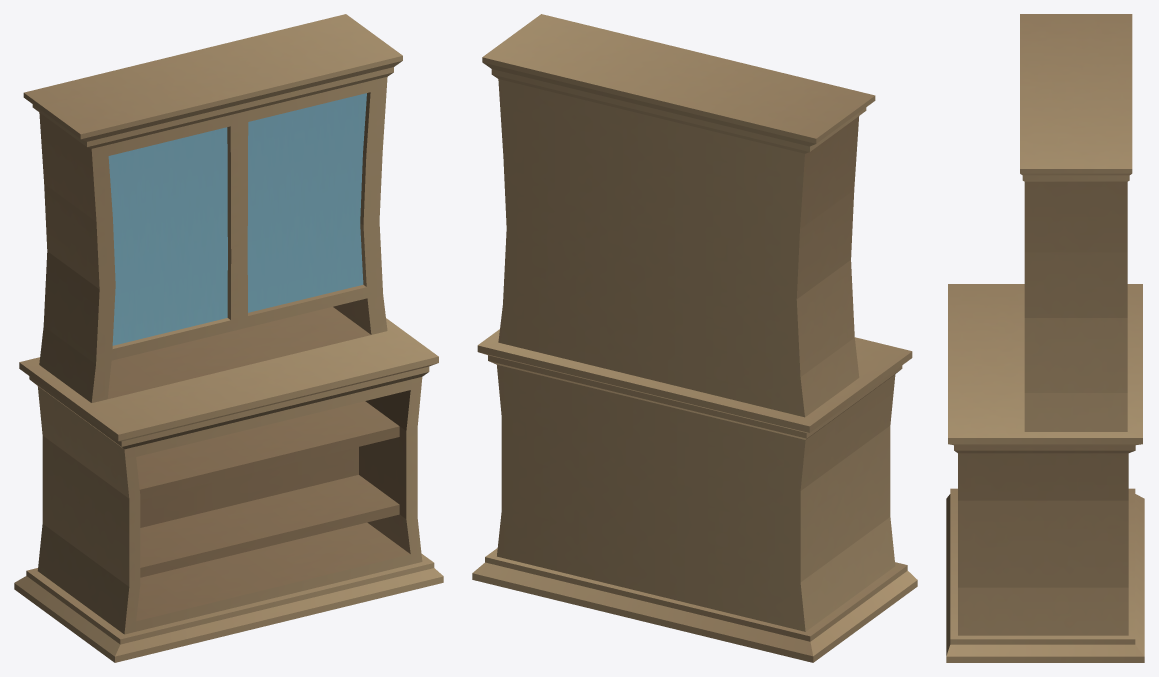
File: cupboard_1a.dae
3 views of the same model, side by side, from view 1: azimuth 30°, elevation 25°; view 2: azimuth 150°, elevation 25°; view 3: azimuth 270°, elevation 25° (orthographic). The views are drawn at different scales.
Parts seen in each view (by area): view 1: cubboard_1a; view 2: cubboard_1a; view 3: cubboard_1a.
Part boxes in pixels (x1,y1,x2,y2): cubboard_1a: (14, 14, 443, 662); cubboard_1a: (472, 14, 917, 662); cubboard_1a: (946, 14, 1144, 662).
Size of the model in its own units: 1.1 by 0.5845 by 1.6.
